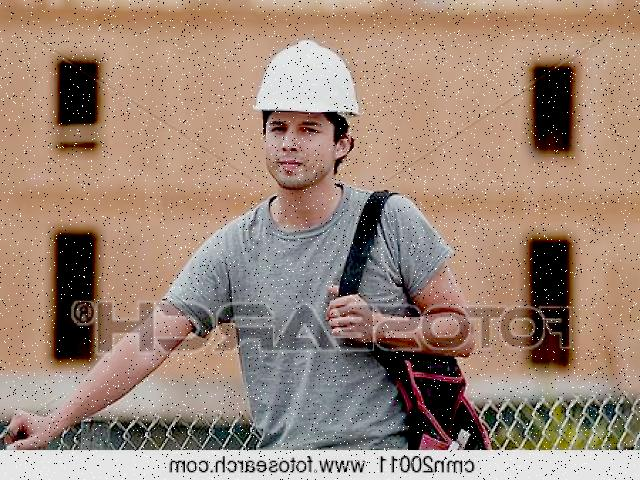Helmet: (249, 33, 365, 126)
